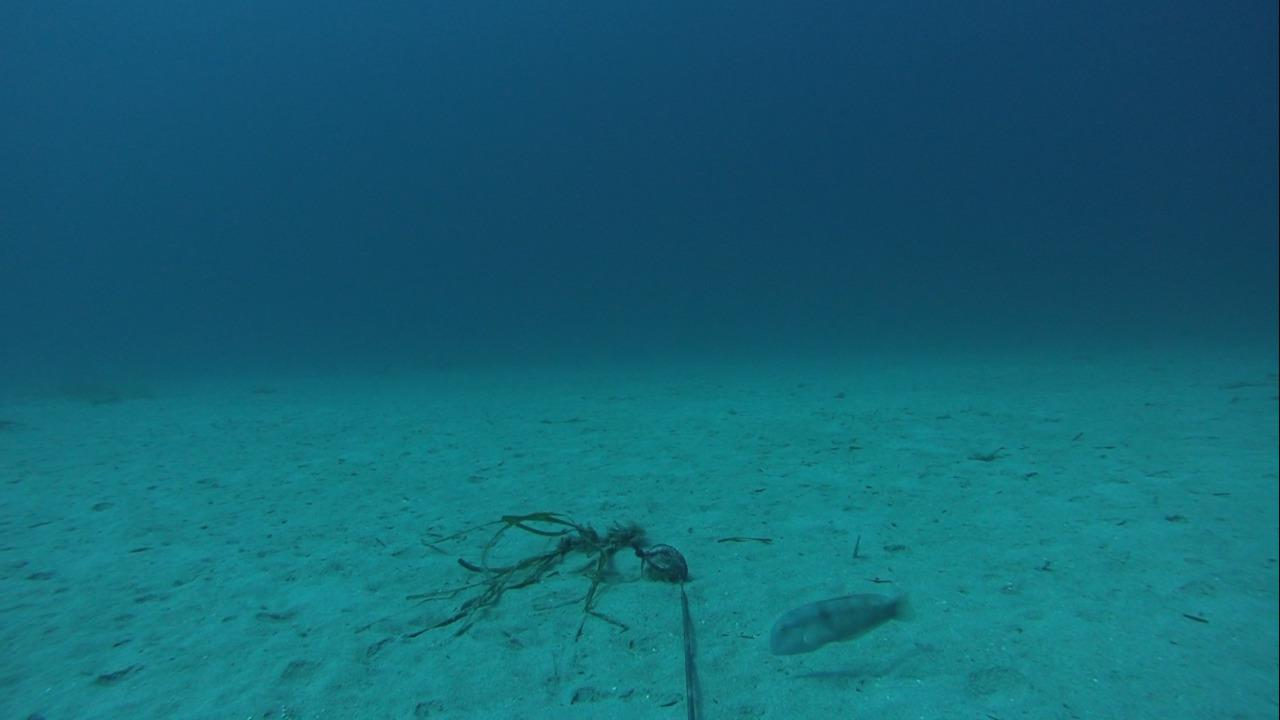raor: (763, 588, 916, 659)
